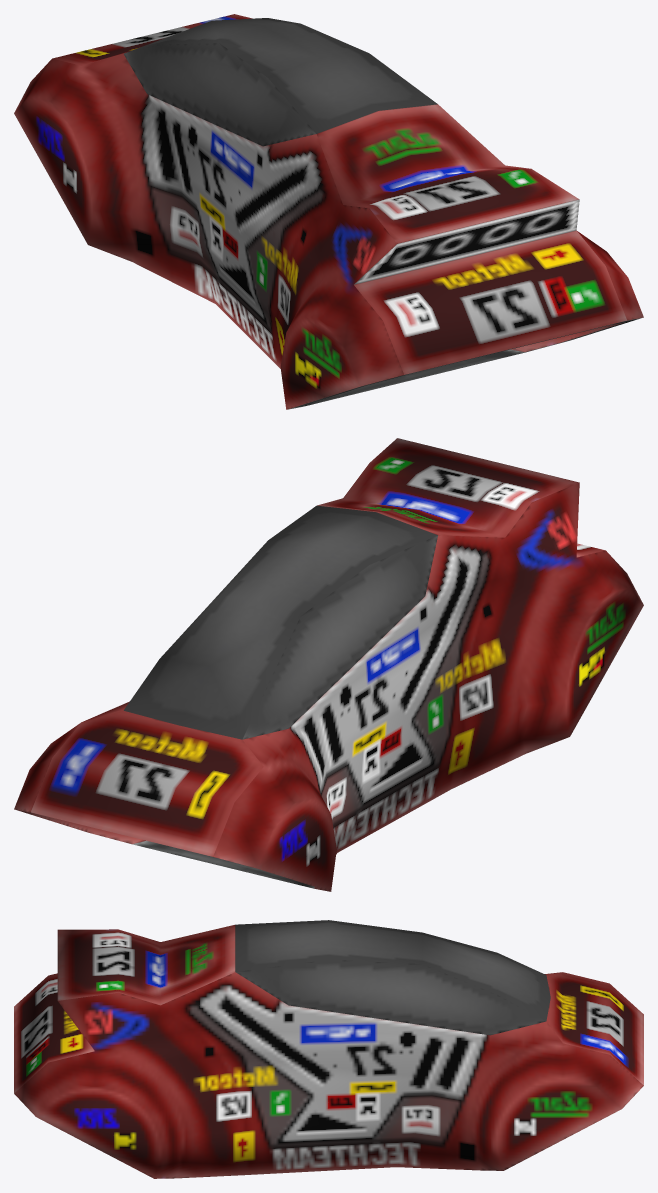
The model's file is motorbikebody.fbx.
3 renders of one model, top to bottom at view 1: azimuth 30°, elevation 25°; view 2: azimuth 150°, elevation 25°; view 3: azimuth 270°, elevation 25°, orthographic. The views are drawn at different scales.
Visible parts, largest first — view 1: spcbike1; view 2: spcbike1; view 3: spcbike1.
Boxes of the visible parts, <box> form: spcbike1: <box>14,14,643,409</box>; spcbike1: <box>14,438,643,891</box>; spcbike1: <box>14,920,643,1178</box>.
Bounding box in the file's own units: 53.51 × 47.3 × 129.
Materials: 1 (1 with a texture image).
